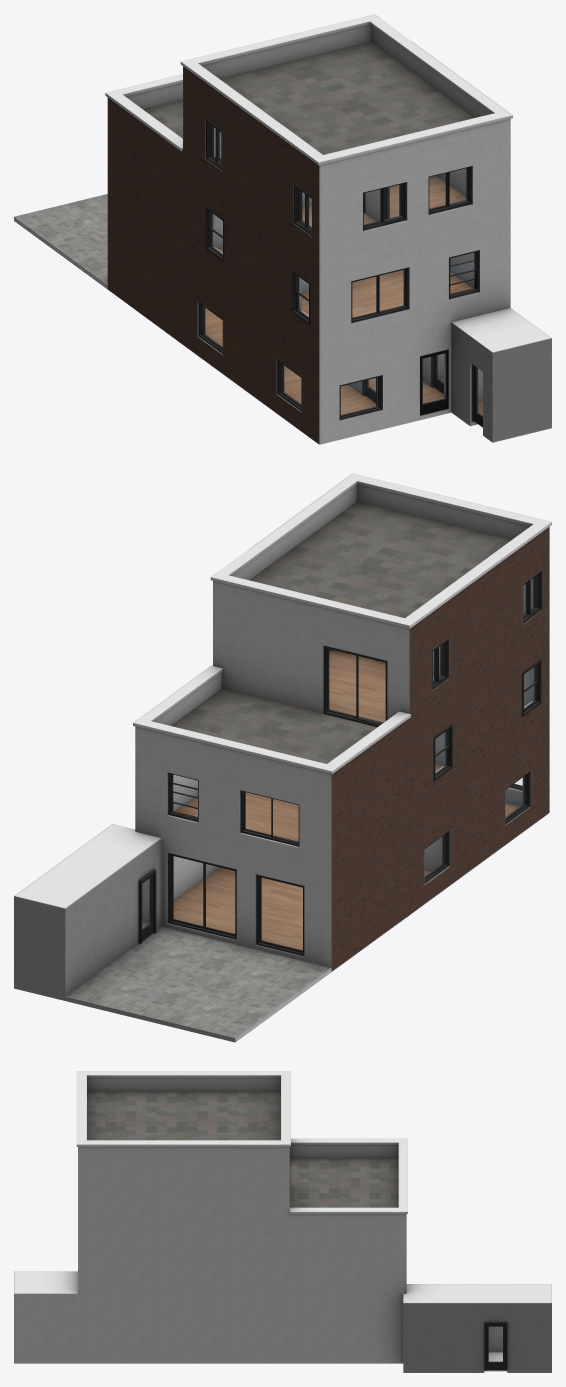
File: house.gltf
3 views of the same model, one above another, from view 1: azimuth 30°, elevation 25°; view 2: azimuth 150°, elevation 25°; view 3: azimuth 270°, elevation 25° (orthographic). The views are drawn at different scales.
Visible parts, largest first — view 1: pCube8, Windows_frame1, glass; view 2: pCube8, Windows_frame1; view 3: pCube8, Windows_frame1.
Boxes of the visible parts, x1=… form: pCube8: x1=14, y1=14, x2=551, y2=444; Windows_frame1: x1=198, y1=120, x2=482, y2=427; glass: x1=214, y1=128, x2=474, y2=391; pCube8: x1=14, y1=473, x2=551, y2=1042; Windows_frame1: x1=138, y1=571, x2=541, y2=955; pCube8: x1=14, y1=1071, x2=551, y2=1372; Windows_frame1: x1=484, y1=1322, x2=507, y2=1370.
Bounding box in the file's own units: 7.5 × 9.25 × 20.55.
Materials: 3 (2 with a texture image).
